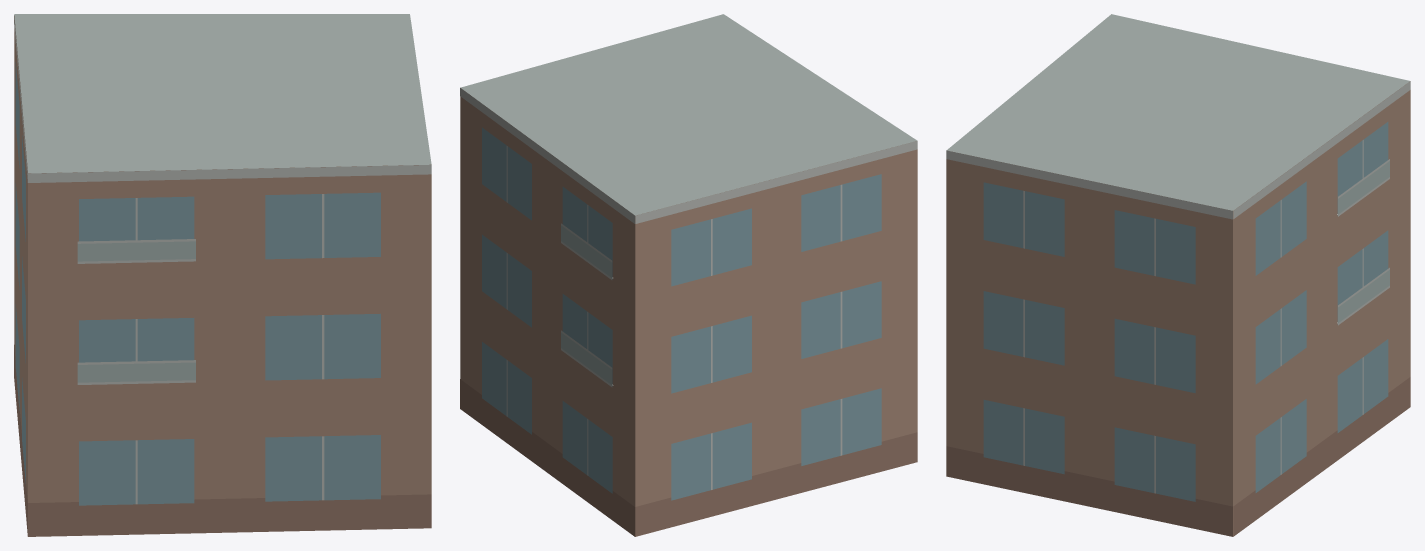
Rendered from survey-upis-32903836.glb.
3 views of the same model, side by side, from view 1: azimuth 30°, elevation 25°; view 2: azimuth 150°, elevation 25°; view 3: azimuth 270°, elevation 25° (orthographic). The views are drawn at different scales.
Parts seen in each view (by area): view 1: survey-upis-32903836.tmp; view 2: survey-upis-32903836.tmp; view 3: survey-upis-32903836.tmp.
Part boxes in pixels (x1=…): survey-upis-32903836.tmp: x1=14, y1=14, x2=431, y2=536; survey-upis-32903836.tmp: x1=460, y1=14, x2=917, y2=536; survey-upis-32903836.tmp: x1=946, y1=14, x2=1410, y2=536.
Bounding box in the file's own units: 11.86 × 9.15 × 11.82.
